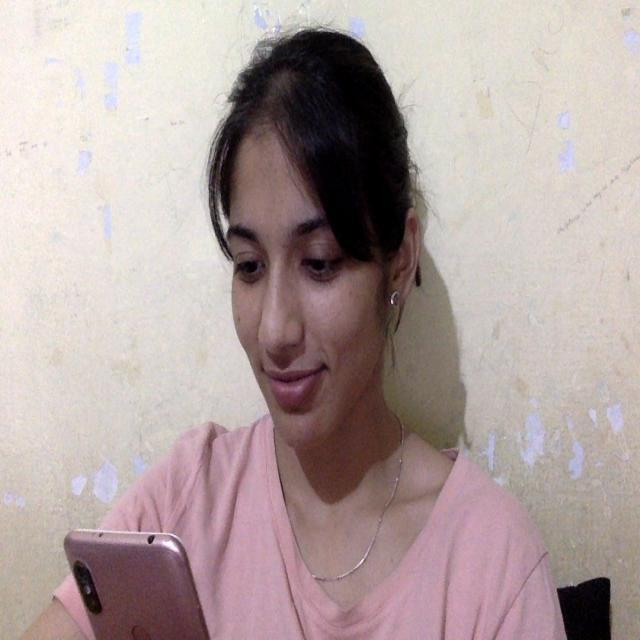Phone: (59, 527, 214, 640)
